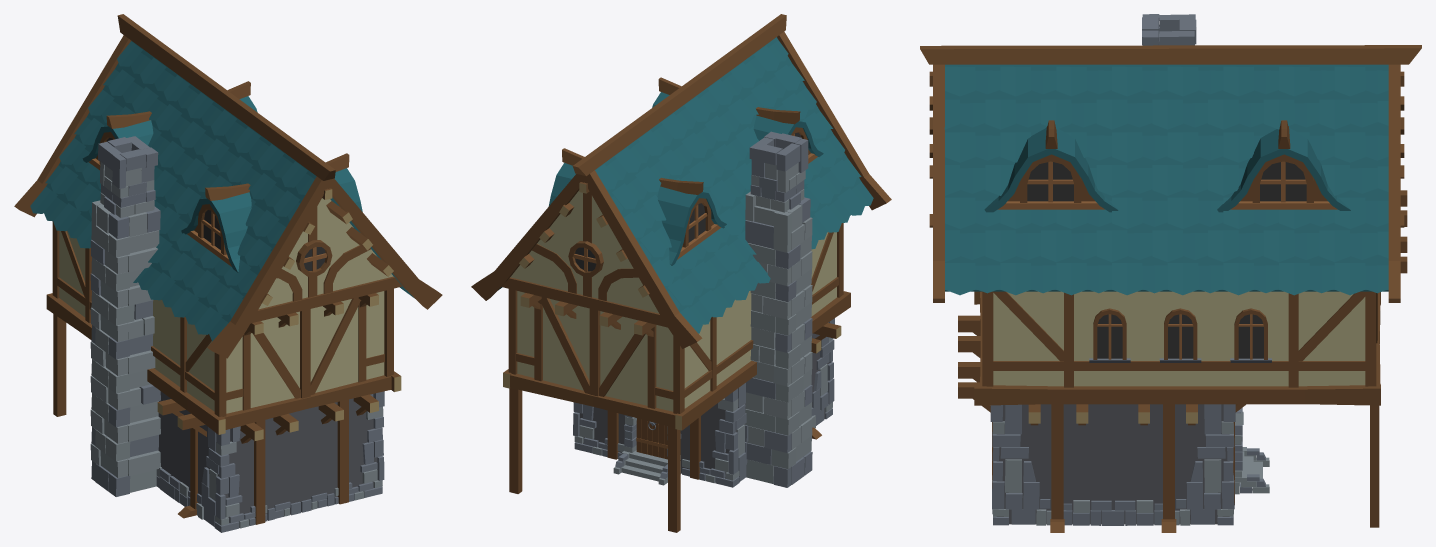
Rendered from House_2.glb.
The picture shows the model from 3 angles, left to right: view 1: azimuth 30°, elevation 25°; view 2: azimuth 150°, elevation 25°; view 3: azimuth 270°, elevation 25°; orthographic projection. The views are drawn at different scales.
Parts seen in each view (by area): view 1: House_2; view 2: House_2; view 3: House_2.
Part boxes in pixels (x1=…): House_2: x1=14, y1=14, x2=442, y2=532; House_2: x1=471, y1=14, x2=891, y2=532; House_2: x1=920, y1=14, x2=1421, y2=532.
Size of the model in its own units: 2.22 by 3.25 by 3.42.
